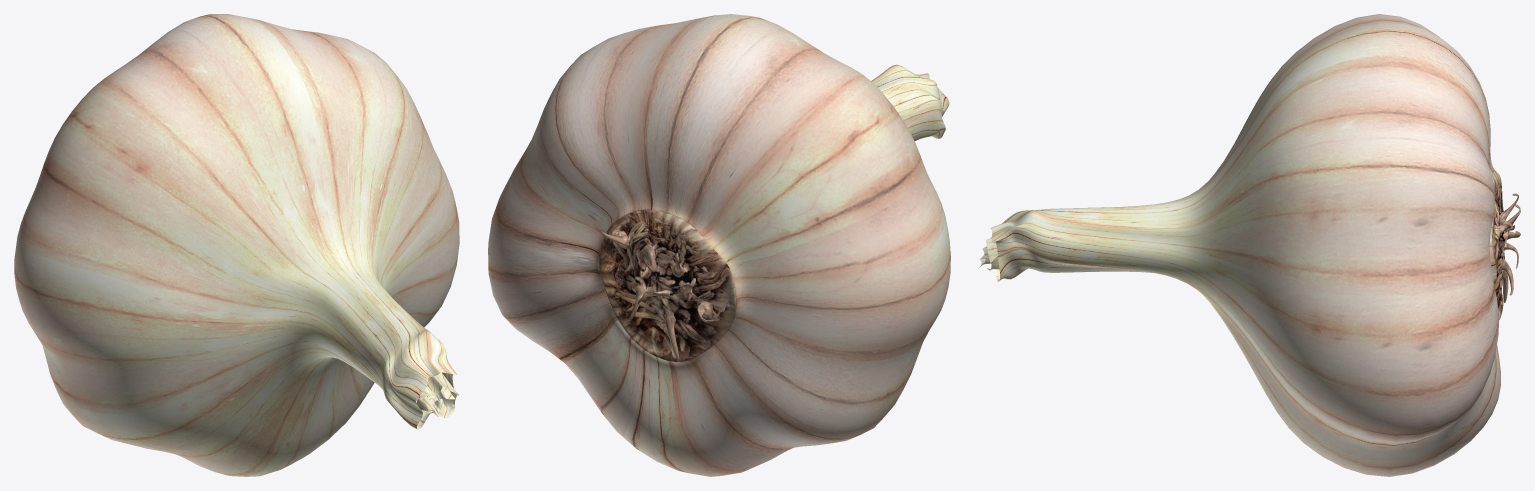
The model's file is Garlic.obj.
3 views of the same model, side by side, from view 1: azimuth 30°, elevation 25°; view 2: azimuth 150°, elevation 25°; view 3: azimuth 270°, elevation 25° (orthographic). The views are drawn at different scales.
Visible parts, largest first — view 1: Garlic_04; view 2: Garlic_04; view 3: Garlic_04.
Boxes of the visible parts, box(x1,y1,x2,y2) form: Garlic_04: box(14, 14, 459, 476); Garlic_04: box(488, 14, 950, 476); Garlic_04: box(979, 14, 1520, 476).
Bounding box in the file's own units: 2 × 2 × 2.3.
1 material, 1 textured.
